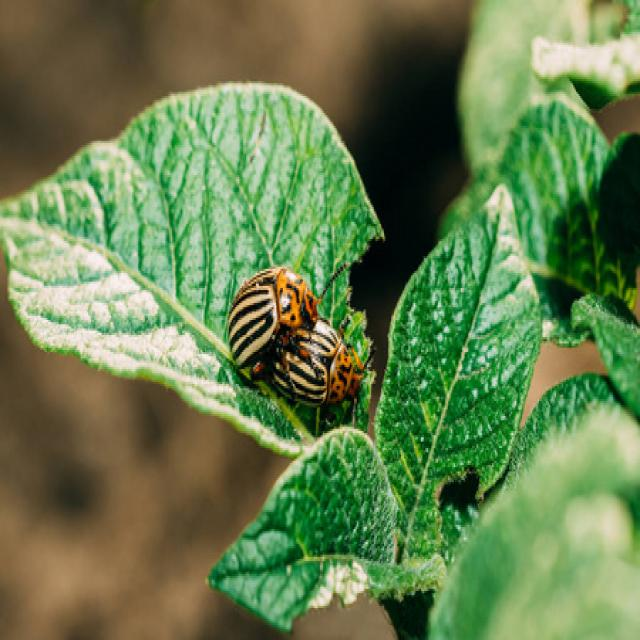ShuCaiHuaBanChong-Grown-: (214, 263, 323, 372), (286, 317, 360, 420)
